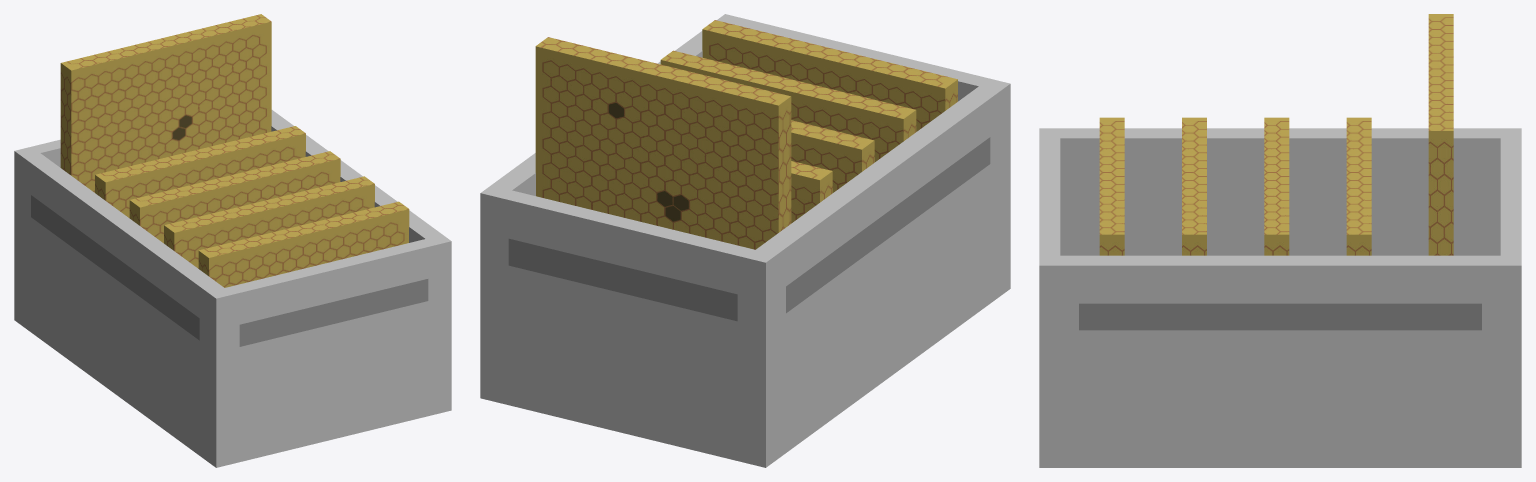
File: FengXiang.FBX
3 renders of one model, left to right at view 1: azimuth 30°, elevation 25°; view 2: azimuth 150°, elevation 25°; view 3: azimuth 270°, elevation 25°, orthographic. The views are drawn at different scales.
Visible parts, largest first — view 1: Box001; view 2: Box001; view 3: Box001.
Part boxes in pixels (x1,y1,x2,y2): Box001: (14,14,451,467); Box001: (480,14,1010,467); Box001: (1039,14,1521,467).
Size of the model in its own units: 41.27 by 45.85 by 61.3.
